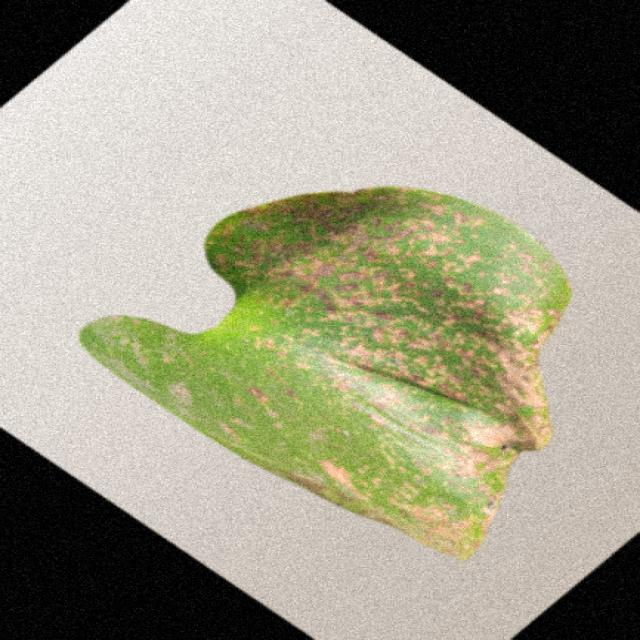daun berpenyakit bercak: (80, 186, 570, 559)
